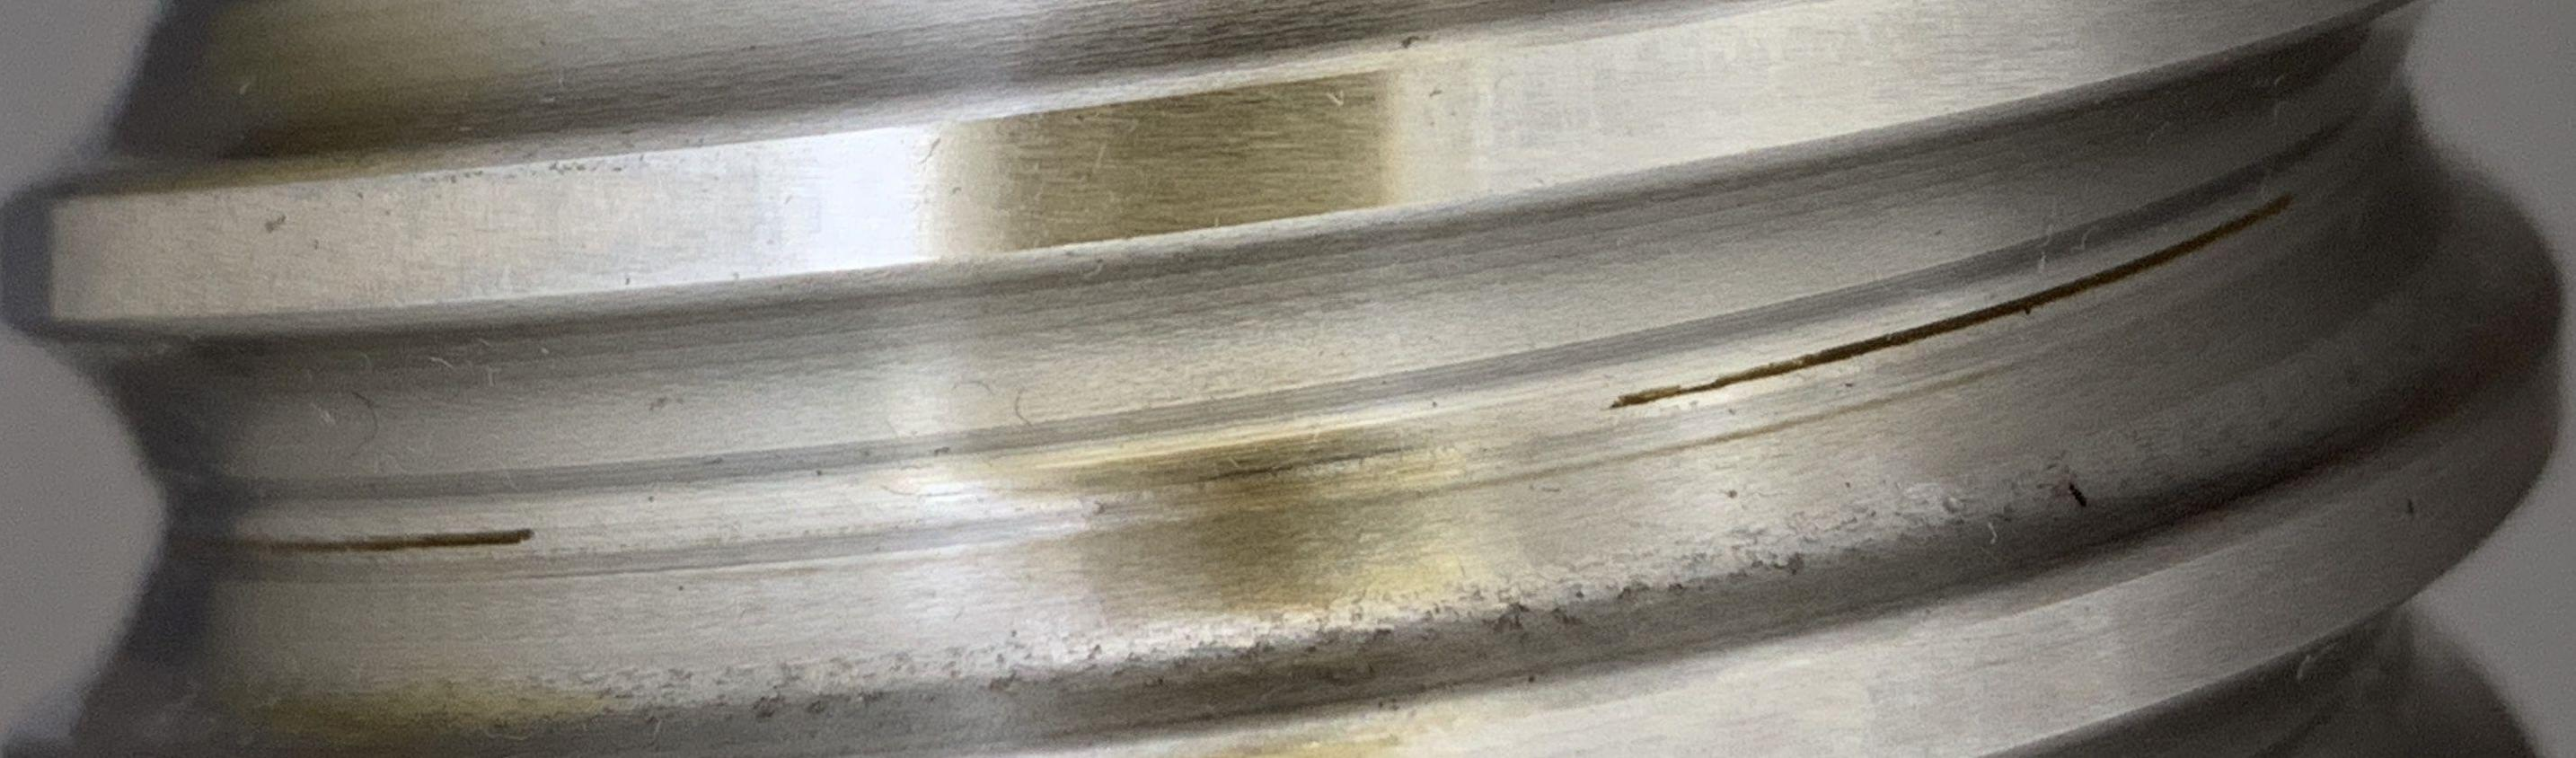pitting: (2068, 483, 2088, 506)
